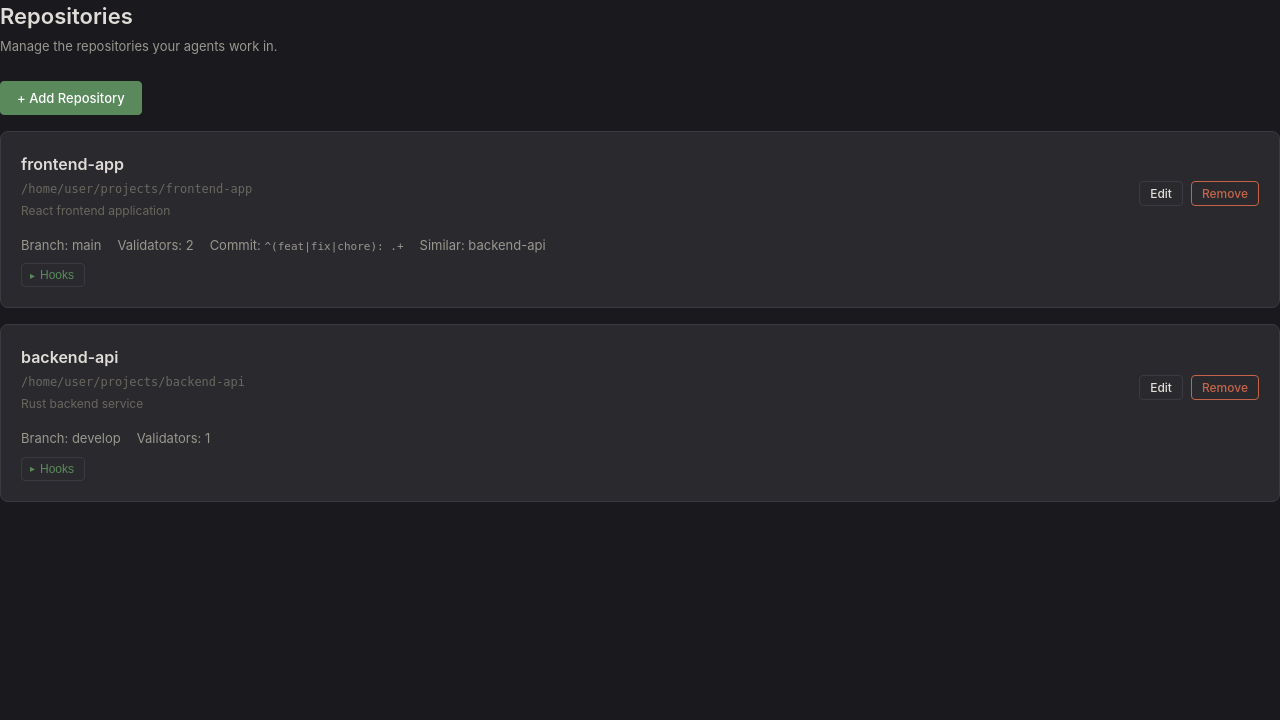
ReposPage › populates edit fields from repo data
Expected: the text "frontend-app" is shown, 21,154 -> 124,174
Step 1. Click the button "Edit" in the row of "/home/user/projects/frontend-app" → (1161, 194), box 1139,181 -> 1183,206
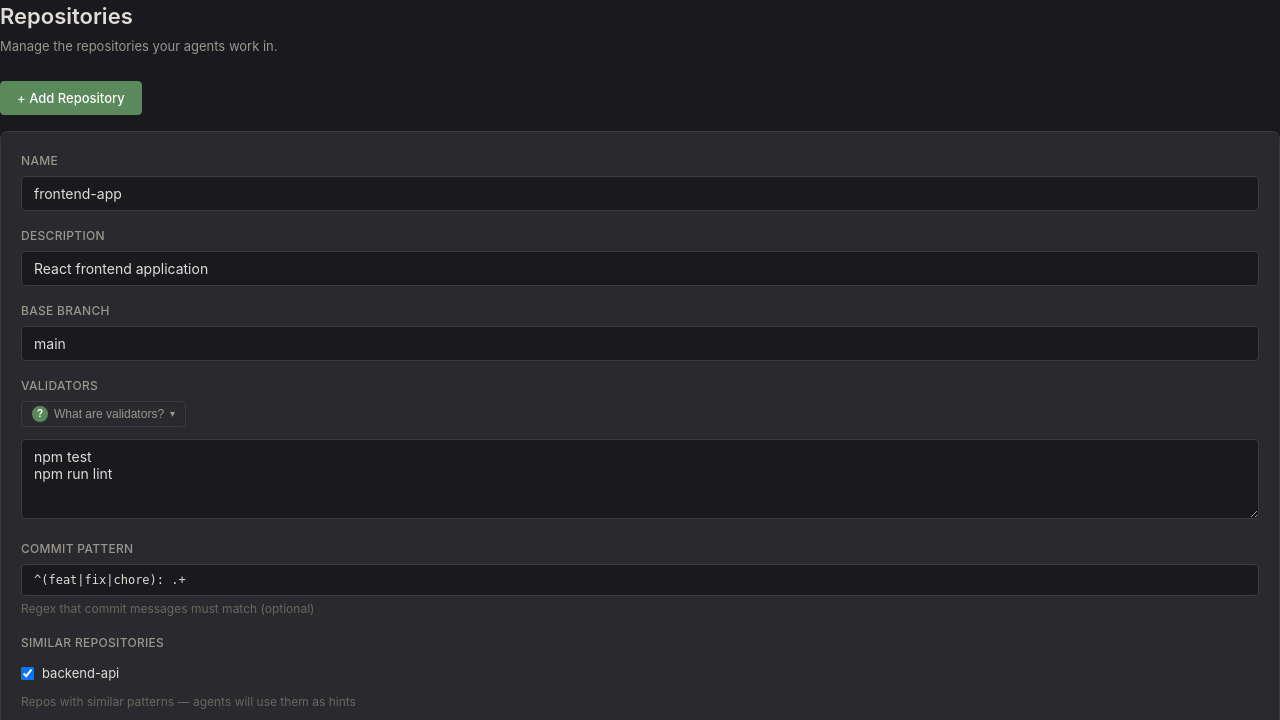
Expected: the field showing "frontend-app" below "Name" is shown, 21,176 -> 1259,210
Expected: the field showing "React frontend application" below "Description" is shown, 21,250 -> 1259,286
Expected: the field showing "main" below "Base Branch" is shown, 21,326 -> 1259,360
